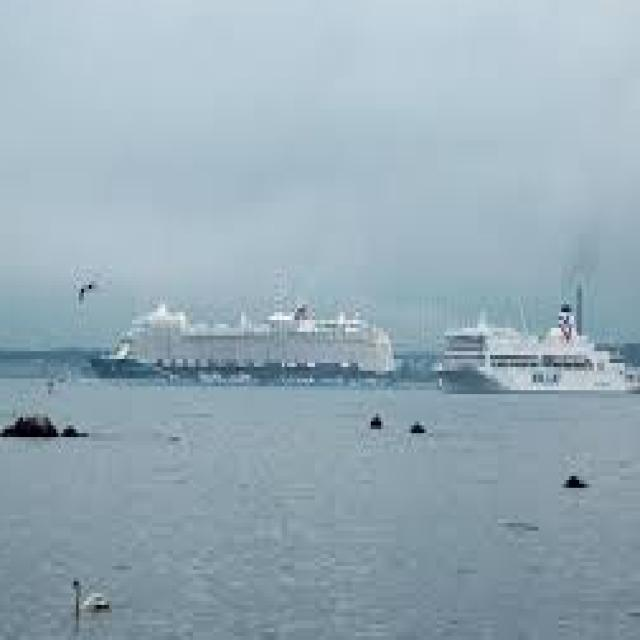passenger ship: (94, 293, 389, 387), (442, 290, 630, 410)
